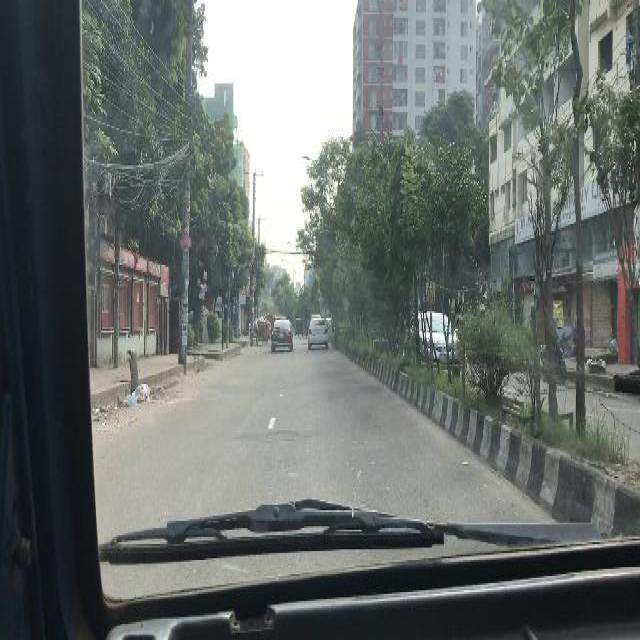car: (418, 303, 462, 365), (270, 318, 292, 347), (308, 319, 326, 349)
three wheelers -CNG-: (294, 315, 302, 336)
